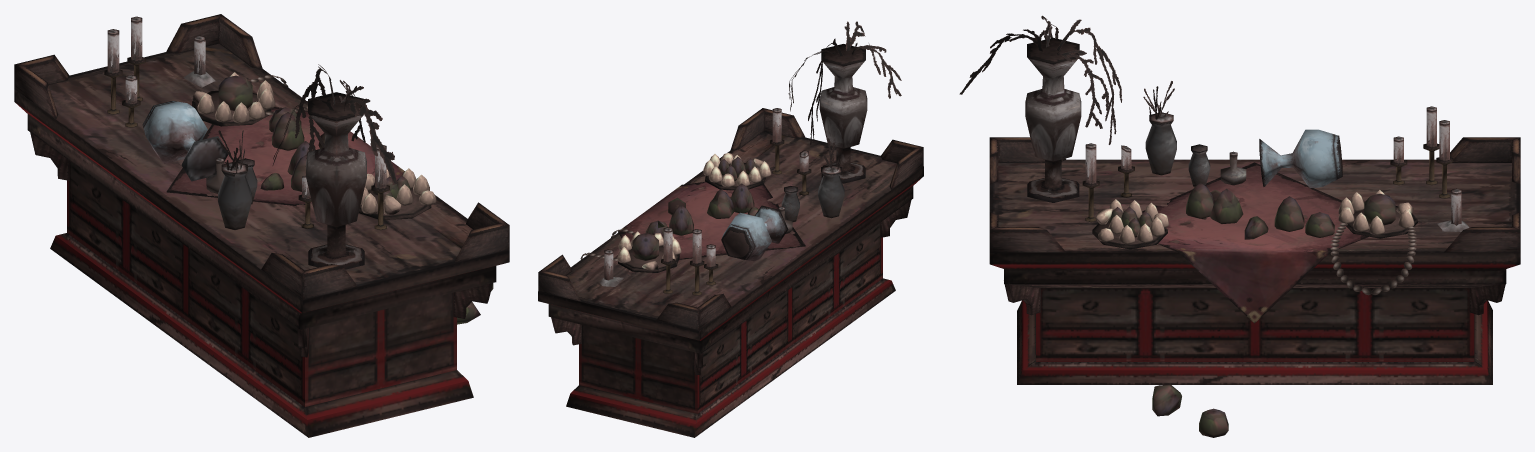
Rendered from PRP_TableE.FBX.
3 views of the same model, side by side, from view 1: azimuth 30°, elevation 25°; view 2: azimuth 150°, elevation 25°; view 3: azimuth 270°, elevation 25° (orthographic). The views are drawn at different scales.
Parts seen in each view (by area): view 1: PRP_TableE; view 2: PRP_TableE; view 3: PRP_TableE.
Part boxes in pixels (x1,y1,x2,y2): PRP_TableE: (14, 14, 509, 437); PRP_TableE: (538, 21, 923, 437); PRP_TableE: (959, 15, 1520, 437).
Bounding box in the file's own units: 363 × 370 × 611.
